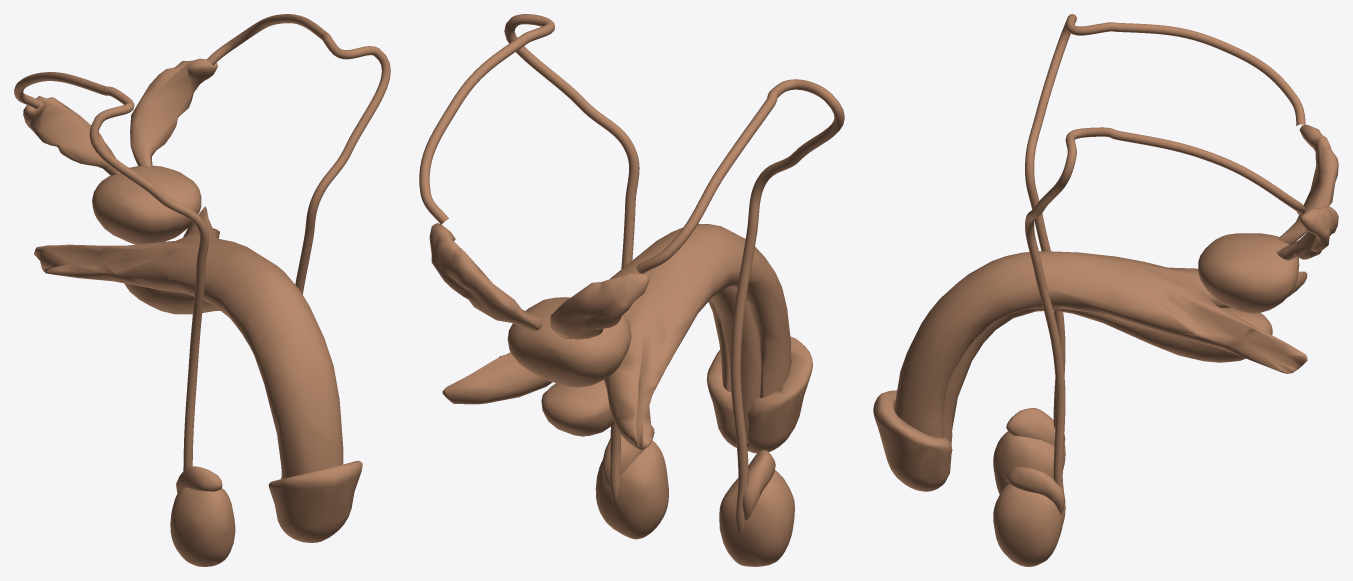
Rendered from male-reproductive.glb.
The picture shows the model from 3 angles, left to right: view 1: azimuth 30°, elevation 25°; view 2: azimuth 150°, elevation 25°; view 3: azimuth 270°, elevation 25°; orthographic projection. The views are drawn at different scales.
Visible parts, largest first — view 1: real-penile-erectile-tissues-corpus-cavernosum-of-penis, prostate, real-ductus-deferentes-ductus-deferens-right, real-penile-erectile-tissues-glans-penis, real-seminal-glands-seminal-gland-left, real-ductus-deferentes-ductus-deferens-left, real-testes-testis-right, real-seminal-glands-seminal-gland-right, real-penile-erectile-tissues-corpus-spongiosum-of-penis, real-epididymides-epididymis-right; view 2: real-penile-erectile-tissues-corpus-cavernosum-of-penis, real-ductus-deferentes-ductus-deferens-right, real-ductus-deferentes-ductus-deferens-left, prostate, real-penile-erectile-tissues-corpus-spongiosum-of-penis, real-penile-erectile-tissues-glans-penis, real-testes-testis-right, real-testes-testis-left, real-seminal-glands-seminal-gland-left, real-seminal-glands-seminal-gland-right, real-epididymides-epididymis-right, real-epididymides-epididymis-left; view 3: real-penile-erectile-tissues-corpus-cavernosum-of-penis, prostate, real-ductus-deferentes-ductus-deferens-left, real-ductus-deferentes-ductus-deferens-right, real-penile-erectile-tissues-corpus-spongiosum-of-penis, real-penile-erectile-tissues-glans-penis, real-testes-testis-left, real-seminal-glands-seminal-gland-right, real-testes-testis-right, real-seminal-glands-seminal-gland-left, real-epididymides-epididymis-left, real-epididymides-epididymis-right.
Part boxes in pixels (x1=…): real-penile-erectile-tissues-corpus-cavernosum-of-penis: x1=34, y1=206, x2=343, y2=479; prostate: x1=92, y1=165, x2=201, y2=244; real-ductus-deferentes-ductus-deferens-right: x1=14, y1=72, x2=209, y2=470; real-penile-erectile-tissues-glans-penis: x1=268, y1=460, x2=362, y2=542; real-seminal-glands-seminal-gland-left: x1=130, y1=58, x2=217, y2=166; real-ductus-deferentes-ductus-deferens-left: x1=206, y1=14, x2=390, y2=294; real-testes-testis-right: x1=170, y1=487, x2=235, y2=566; real-seminal-glands-seminal-gland-right: x1=23, y1=96, x2=119, y2=175; real-penile-erectile-tissues-corpus-spongiosum-of-penis: x1=124, y1=283, x2=220, y2=314; real-epididymides-epididymis-right: x1=176, y1=466, x2=222, y2=493; real-penile-erectile-tissues-corpus-cavernosum-of-penis: x1=442, y1=223, x2=790, y2=449; real-ductus-deferentes-ductus-deferens-right: x1=636, y1=79, x2=844, y2=533; real-ductus-deferentes-ductus-deferens-left: x1=419, y1=14, x2=639, y2=503; prostate: x1=507, y1=297, x2=631, y2=387; real-penile-erectile-tissues-corpus-spongiosum-of-penis: x1=541, y1=287, x2=761, y2=447; real-penile-erectile-tissues-glans-penis: x1=707, y1=336, x2=812, y2=453; real-testes-testis-right: x1=719, y1=470, x2=794, y2=566; real-testes-testis-left: x1=595, y1=440, x2=668, y2=539; real-seminal-glands-seminal-gland-left: x1=429, y1=223, x2=543, y2=331; real-seminal-glands-seminal-gland-right: x1=550, y1=272, x2=649, y2=339; real-epididymides-epididymis-right: x1=742, y1=449, x2=775, y2=520; real-epididymides-epididymis-left: x1=602, y1=425, x2=654, y2=486; real-penile-erectile-tissues-corpus-cavernosum-of-penis: x1=894, y1=251, x2=1307, y2=438; prostate: x1=1198, y1=233, x2=1299, y2=313; real-ductus-deferentes-ductus-deferens-left: x1=1025, y1=127, x2=1305, y2=524; real-ductus-deferentes-ductus-deferens-right: x1=1025, y1=14, x2=1305, y2=469; real-penile-erectile-tissues-corpus-spongiosum-of-penis: x1=942, y1=307, x2=1272, y2=474; real-penile-erectile-tissues-glans-penis: x1=873, y1=390, x2=952, y2=491; real-testes-testis-left: x1=993, y1=483, x2=1062, y2=566; real-seminal-glands-seminal-gland-right: x1=1279, y1=125, x2=1338, y2=244; real-testes-testis-right: x1=993, y1=431, x2=1063, y2=494; real-seminal-glands-seminal-gland-left: x1=1277, y1=206, x2=1338, y2=260; real-epididymides-epididymis-left: x1=1006, y1=467, x2=1065, y2=514; real-epididymides-epididymis-right: x1=1006, y1=408, x2=1065, y2=445.
Size of the model in its own units: 0.1123 by 0.1654 by 0.151.
